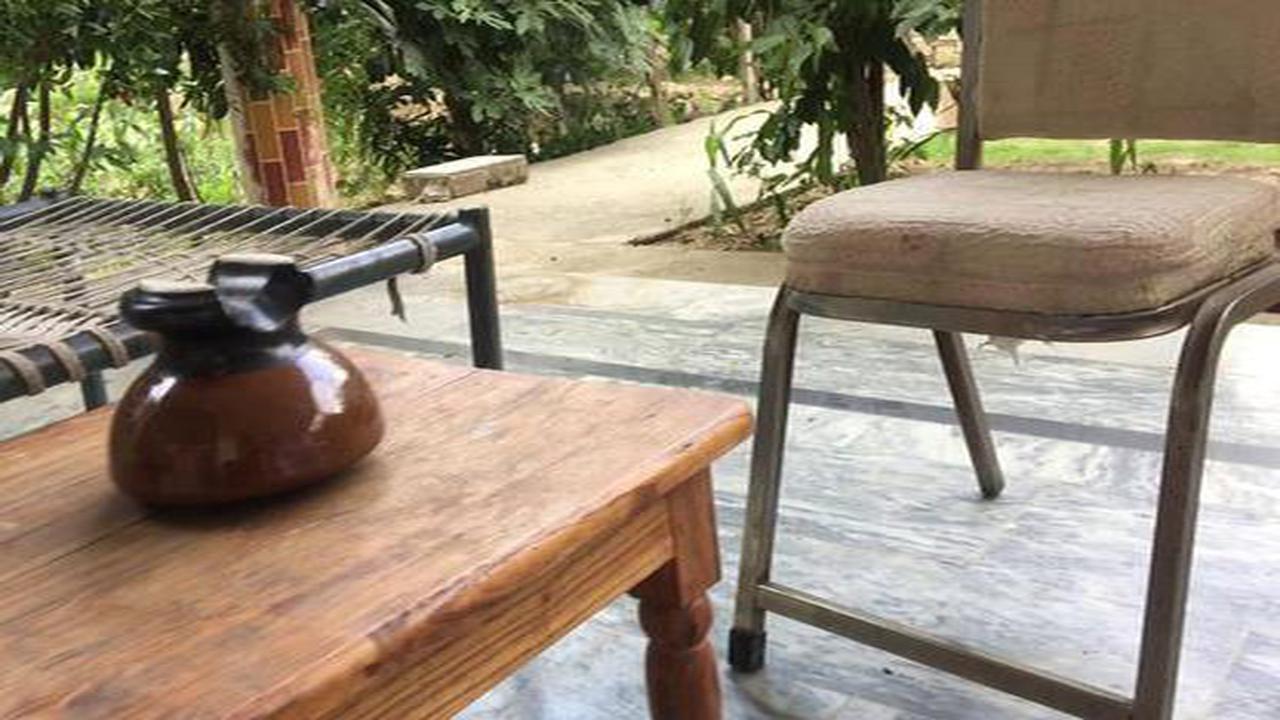insulator_pin: (90, 248, 394, 525)
